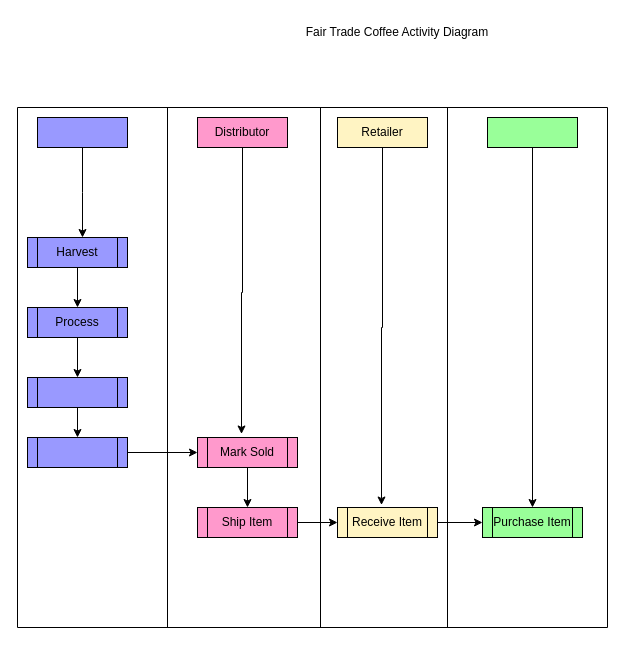
Image size: 626x646. Some labels were removed from this diagram. Here are the shapes that lost their labels. From the top down, the box of each, then its label:
(36, 116, 128, 148): Farmer
(486, 116, 578, 148): Consumer
(26, 376, 128, 408): Pack
(26, 436, 128, 468): Mark For Sale
